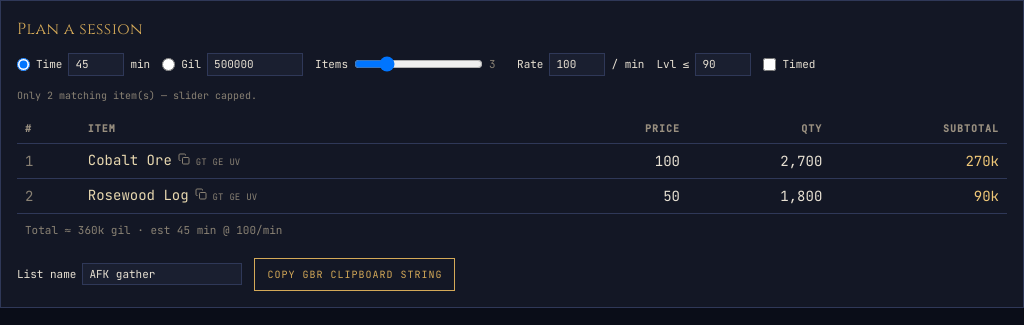
Scenario: GatheringPlanner › switches to gil mode and recomputes
The width and height of the screenshot is (1024, 325).
Click the label named "gil budget". click: (233, 64)
box: [162, 53, 303, 76]
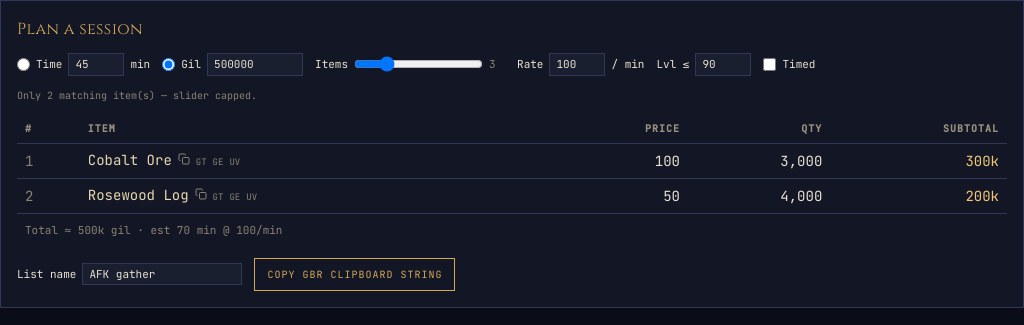
Check: the text "3,000" is shown, box [688, 143, 830, 178]
Check: the text "4,000" is shown, box [688, 178, 830, 213]
